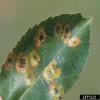Apple rust leaf: (0, 14, 98, 100)
